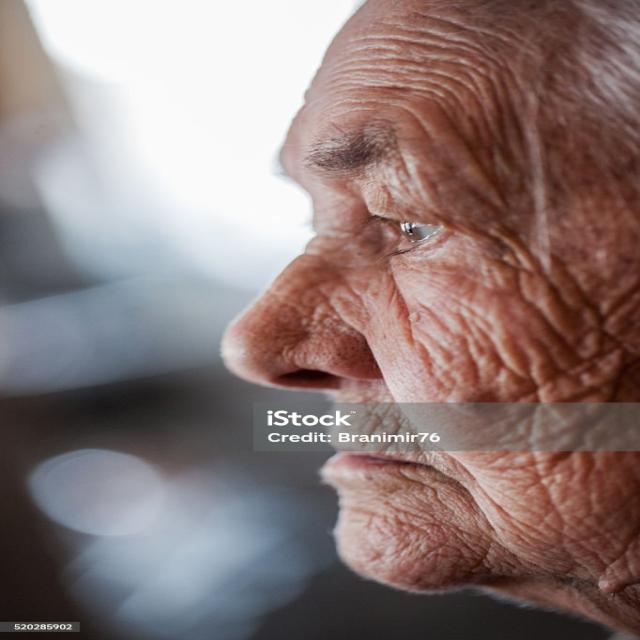Dry-Skin: (498, 210, 640, 570), (326, 15, 554, 129), (286, 268, 479, 380), (326, 484, 500, 580)
